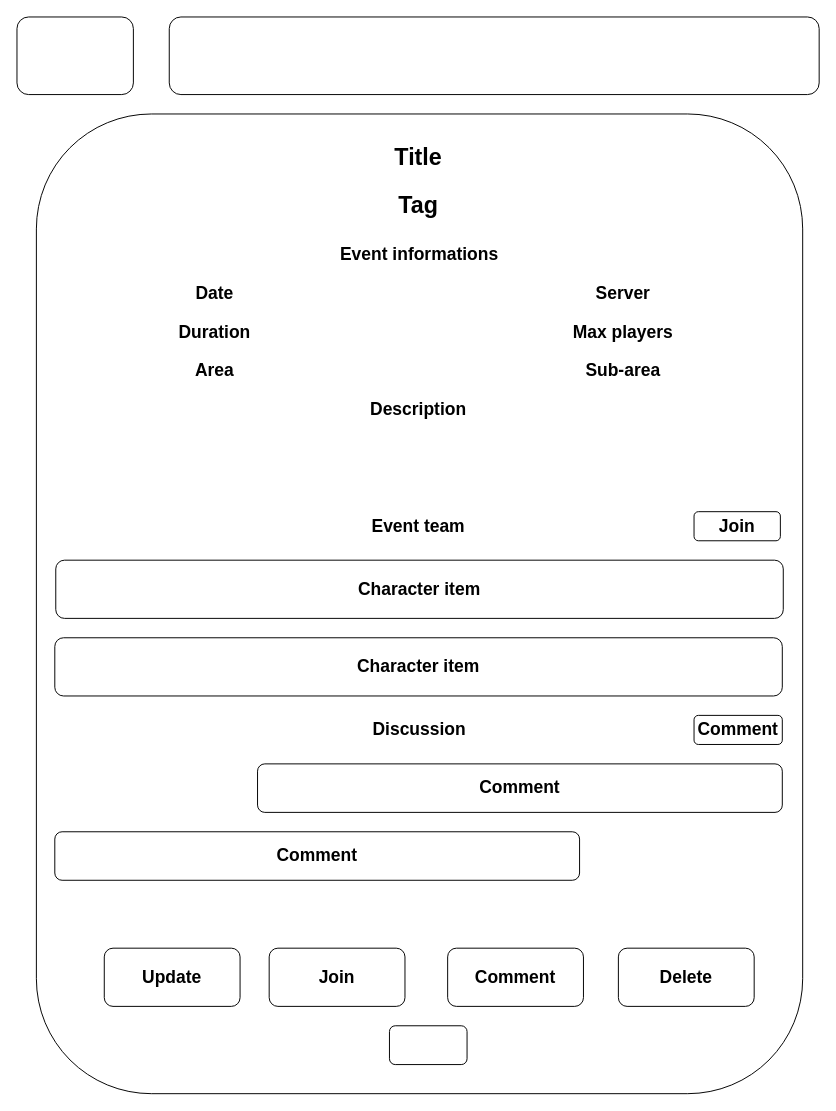
This 836x1111 diagram has some shape labels left out. Each missing label, with the box of its shape:
Logo: (16, 16, 133, 95)
Nav bar: (168, 16, 819, 95)
Return: (388, 1025, 467, 1065)
